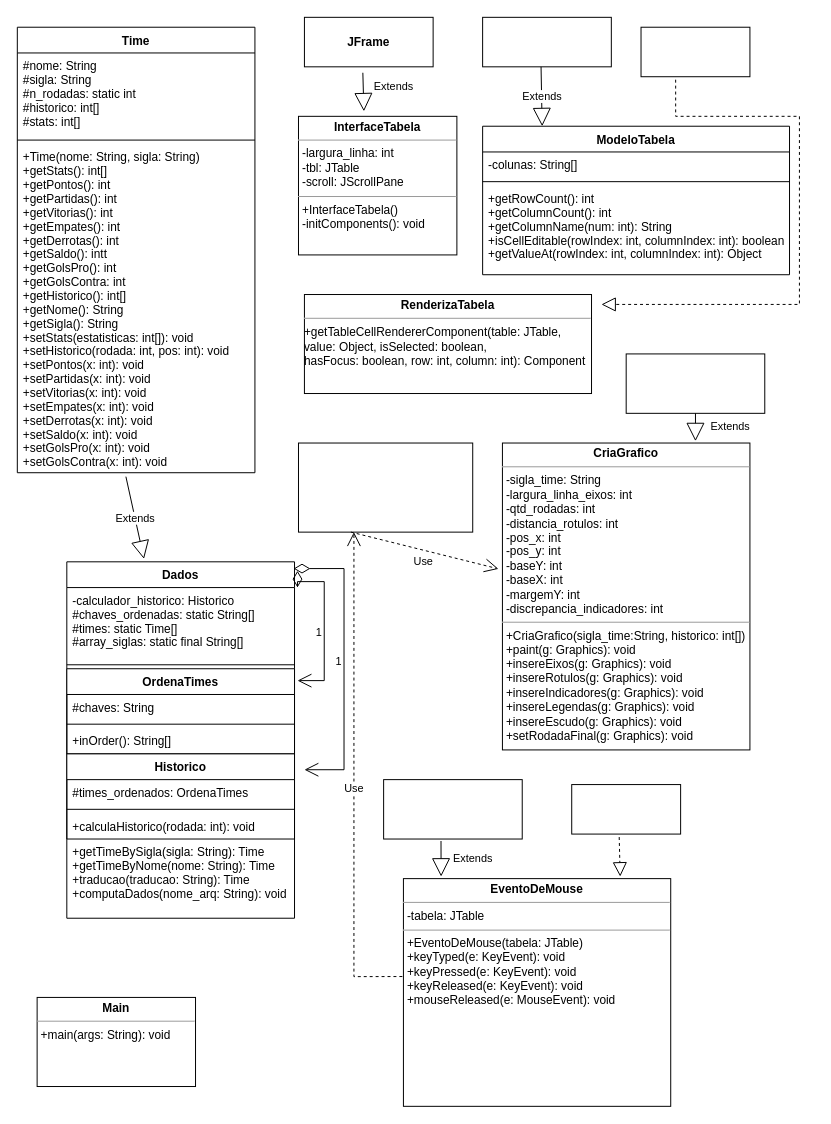
The diagram is 831 pixels wide and 1124 high, and some of its shapes have lost their labels. The centre of each missing label's shape, as x and y in pixels:
AbstractTableModel: the point at 546,41
CriaFrame -frame: JFrame +CriaFrame(grafico CriaGrafico): the point at 385,487
JPanel: the point at 695,383
KeyBoardListener: the point at 626,809
MouseAdapter: the point at 452,809
TableCellRenderer: the point at 695,51
